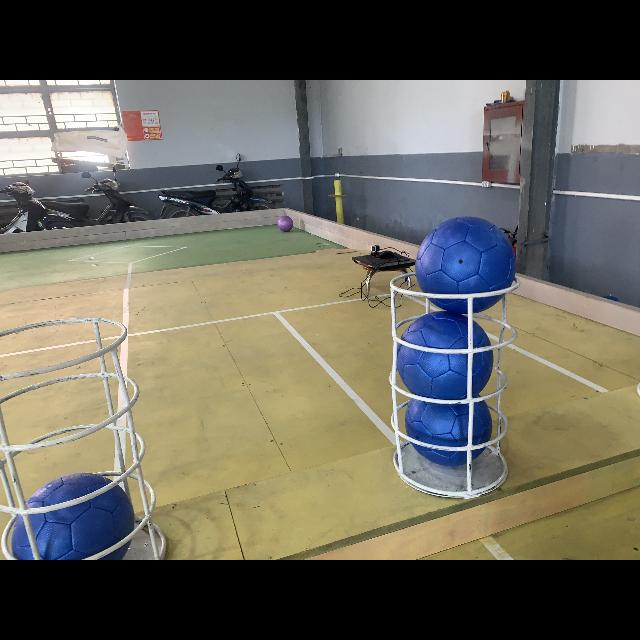B: (11, 474, 134, 560), (416, 216, 516, 314), (396, 312, 490, 398), (404, 396, 492, 466)
